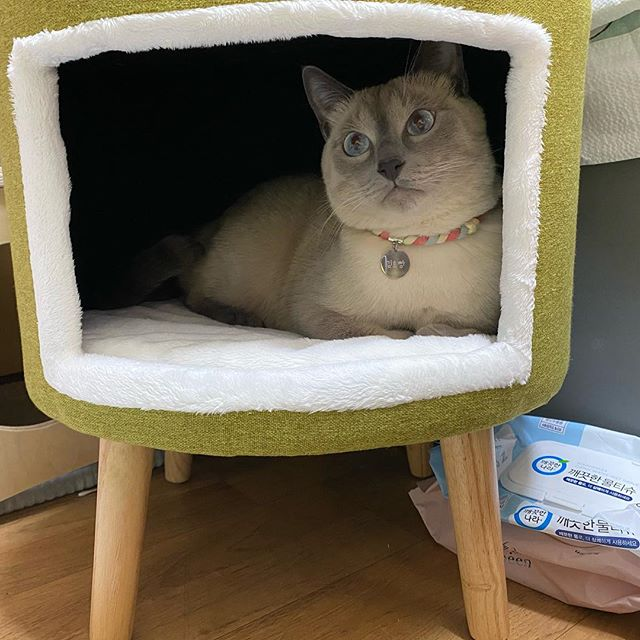cat: (306, 46, 498, 238)
